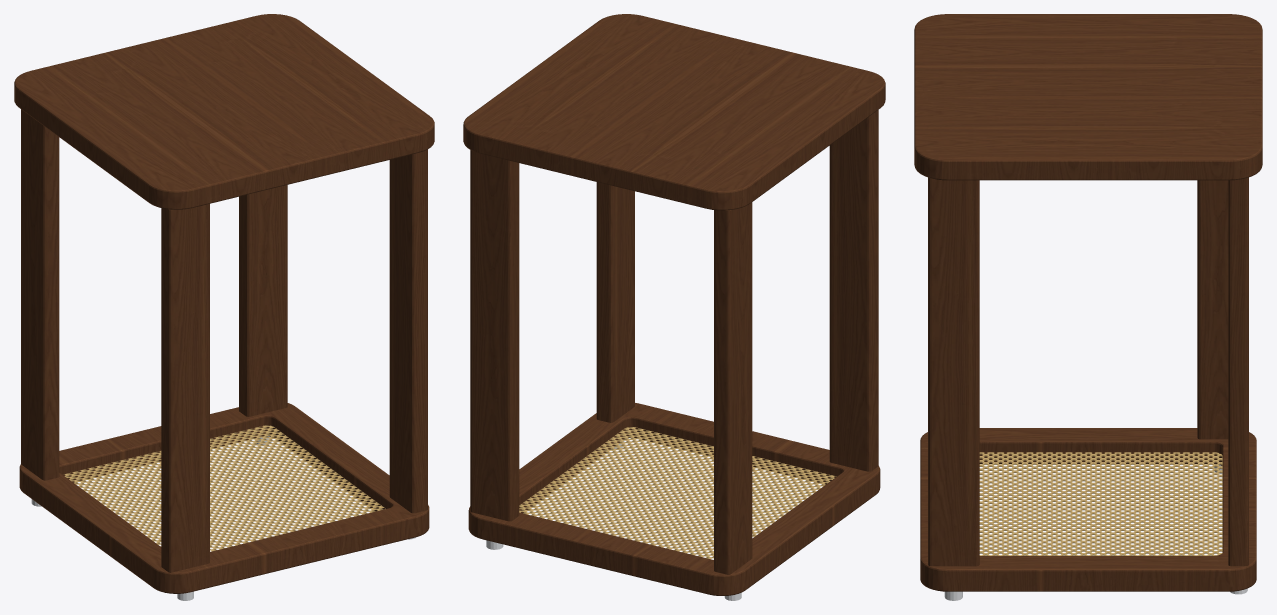
The model's file is liv-side-table-wood.glb.
3 views of the same model, side by side, from view 1: azimuth 30°, elevation 25°; view 2: azimuth 150°, elevation 25°; view 3: azimuth 270°, elevation 25° (orthographic). The views are drawn at different scales.
Parts seen in each view (by area): view 1: InoSlashed Rattan End Table; view 2: InoSlashed Rattan End Table; view 3: InoSlashed Rattan End Table.
Boxes of the visible parts, x1=… form: InoSlashed Rattan End Table: x1=14, y1=14, x2=434, y2=600; InoSlashed Rattan End Table: x1=463, y1=14, x2=885, y2=600; InoSlashed Rattan End Table: x1=914, y1=14, x2=1262, y2=600.
Bounding box in the file's own units: 0.305 × 0.432 × 0.305.
Materials: 3 (2 with a texture image).
